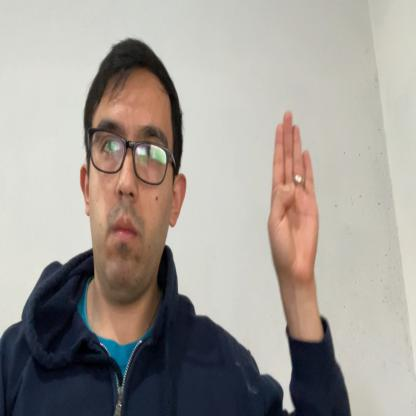B: (268, 109, 320, 288)
